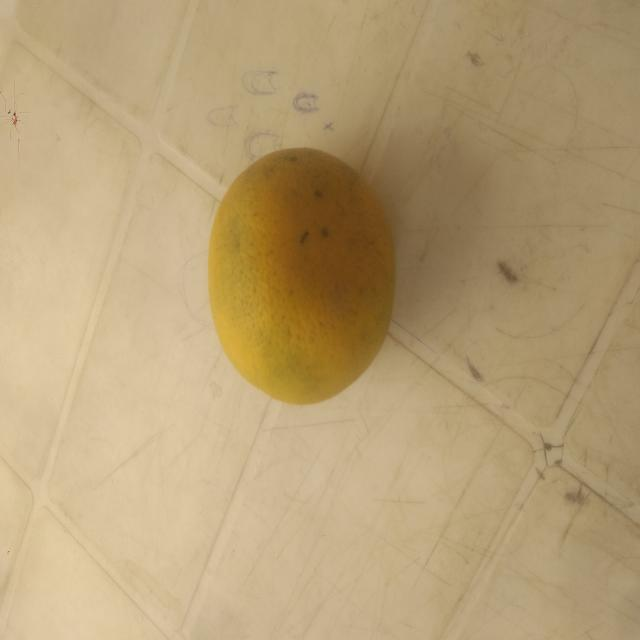Ripe orange: (205, 131, 409, 431)
